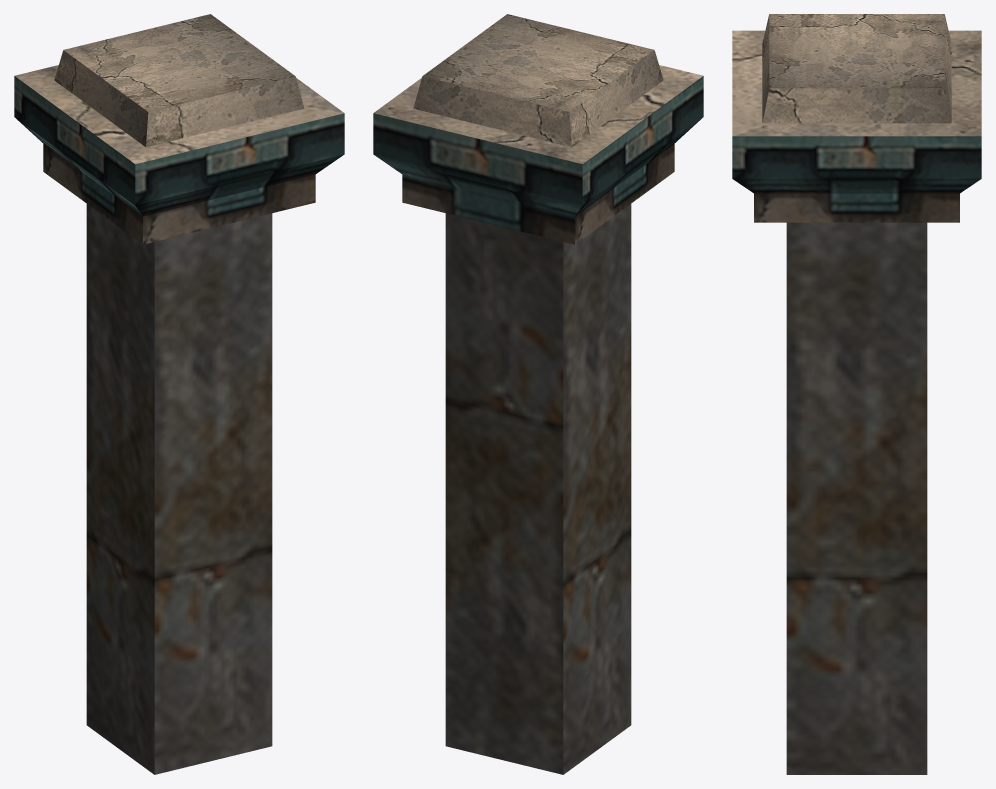
File: column_concrete_2.fbx
3 renders of one model, left to right at view 1: azimuth 30°, elevation 25°; view 2: azimuth 150°, elevation 25°; view 3: azimuth 270°, elevation 25°, orthographic. The views are drawn at different scales.
Visible parts, largest first — view 1: column_concrete_2; view 2: column_concrete_2; view 3: column_concrete_2.
Part boxes in pixels (x1,y1,x2,y2): column_concrete_2: (14, 14, 344, 774); column_concrete_2: (373, 14, 703, 774); column_concrete_2: (732, 14, 981, 774).
Bounding box in the file's own units: 1.25 × 3.82 × 1.25.
